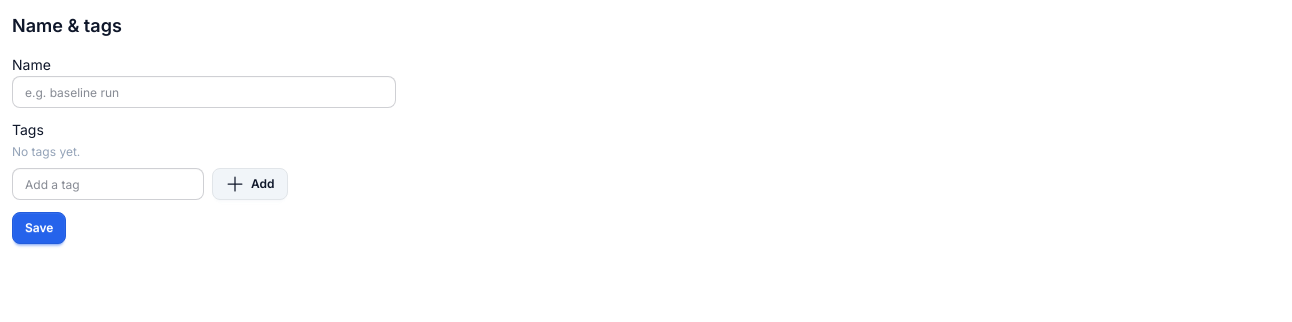
JobMetadataEditor › rejects an invalid tag
Type "bad/tag" into the field labelled "Add a tag".
click(108, 184); type("bad/tag")  # box [12, 168, 204, 200]
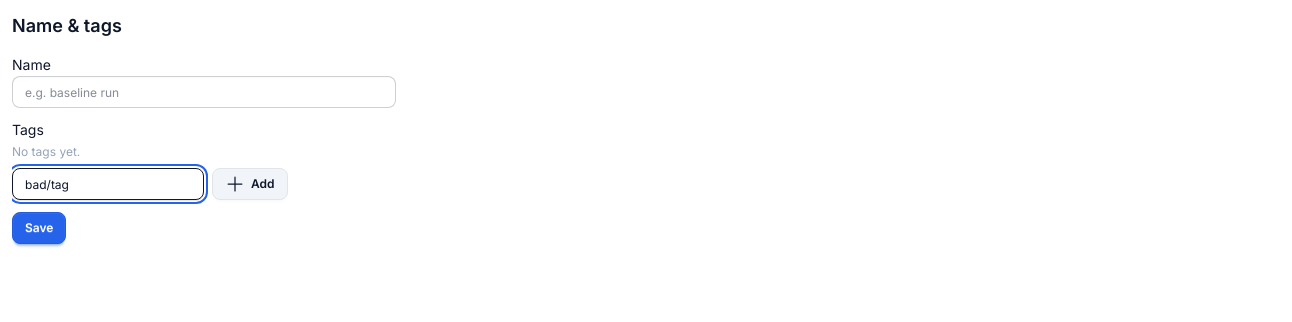
Click the button "Add".
click(250, 184)  # box [212, 168, 288, 200]
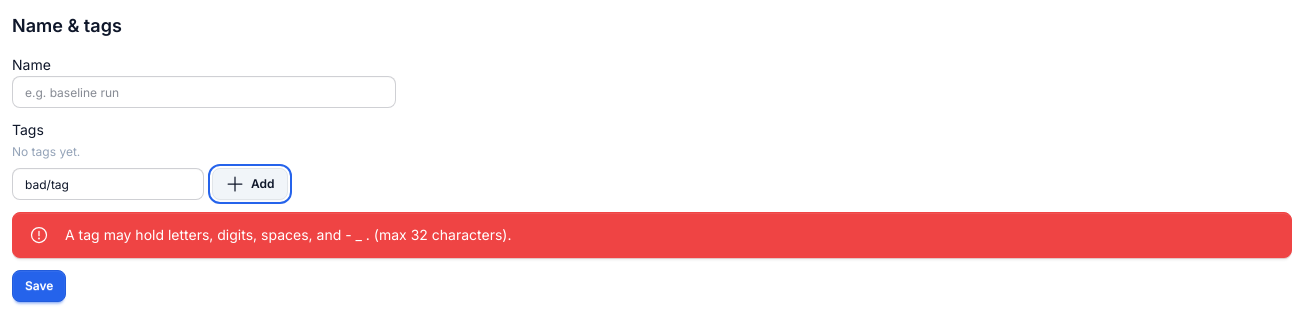
Expected: the message shows "A tag may hold letters", [65, 226, 512, 243]
